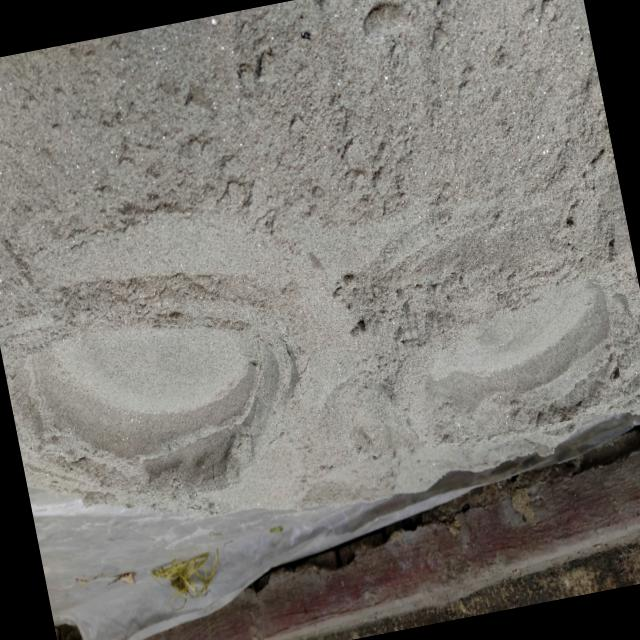C20: (35, 275, 298, 503), (417, 286, 609, 443)
